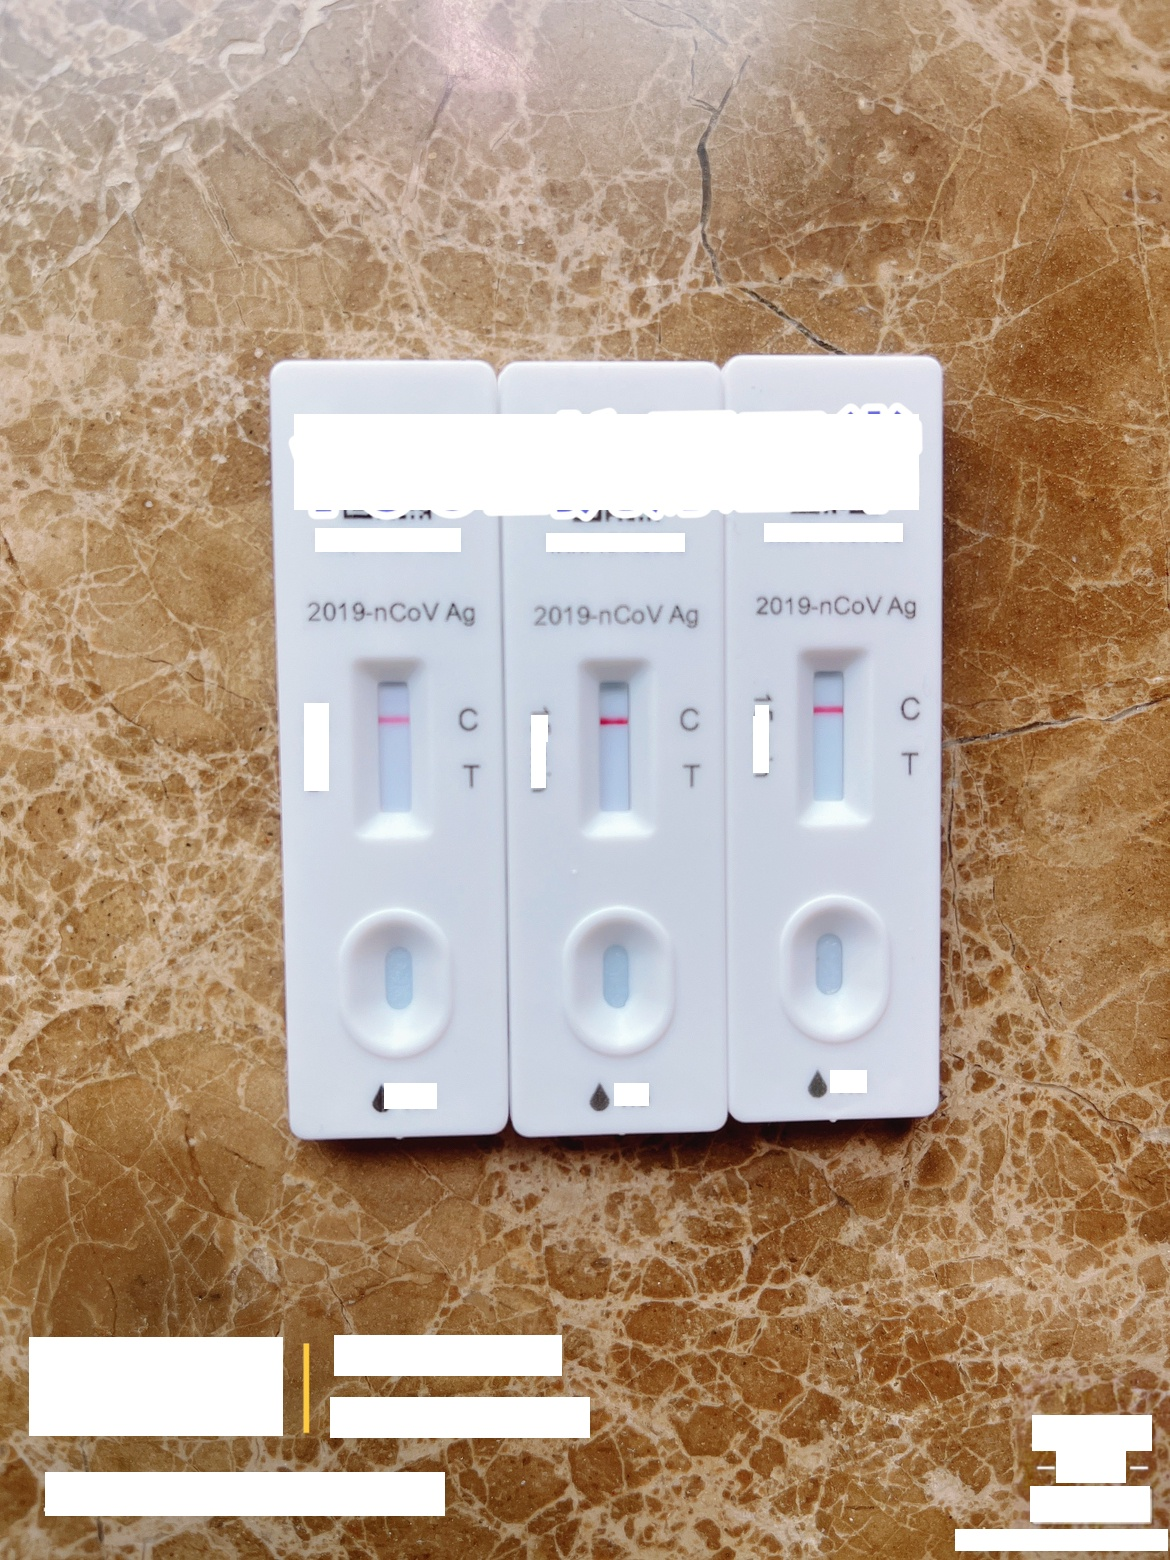negative: (354, 650, 430, 835), (578, 649, 653, 835), (796, 640, 873, 823)
